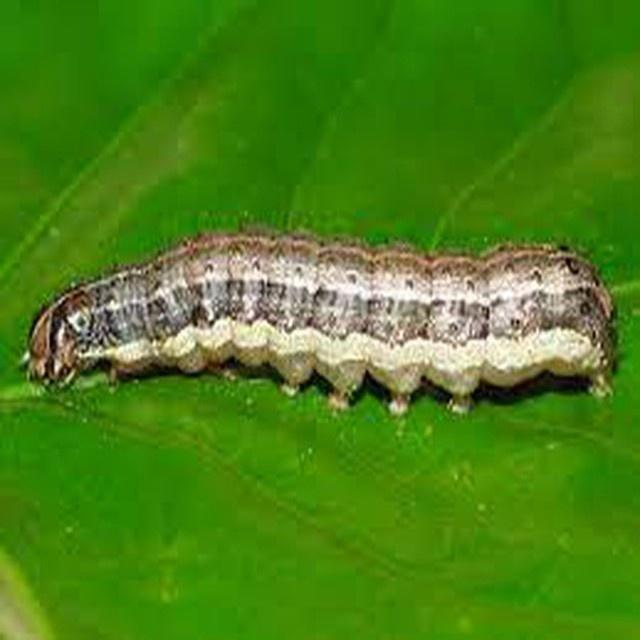Plaga: (28, 229, 621, 421)
